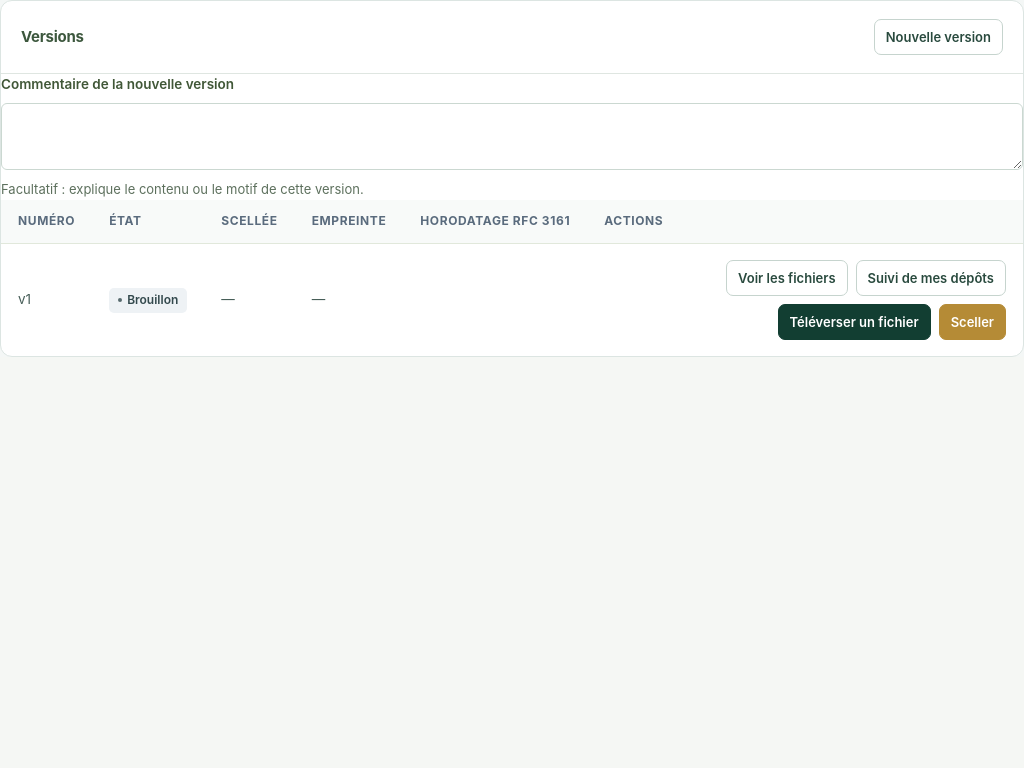
Scenario: un scellement refusé pour dépôts interrompus l’explique et ouvre le suivi des dépôts de cette version
Click the button "Sceller": (972, 322) [939, 304, 1006, 340]
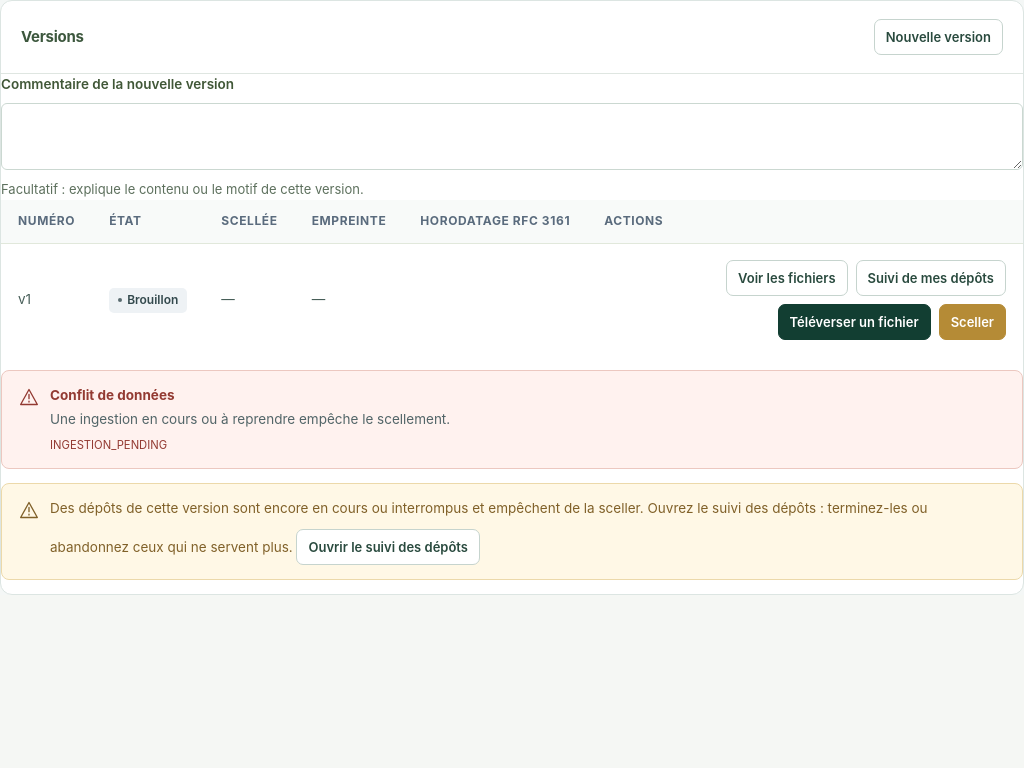
Result: the text "Une ingestion en cours ou à reprendre empêche le scellement." is shown at [50, 407, 450, 431]
Result: the text "Ouvrez le suivi des dépôts : terminez-les ou abandonnez ceux qui ne servent plus" is shown at [50, 500, 928, 555]
Click the button "Ouvrir le suivi des dépôts": (388, 548) [296, 530, 480, 566]
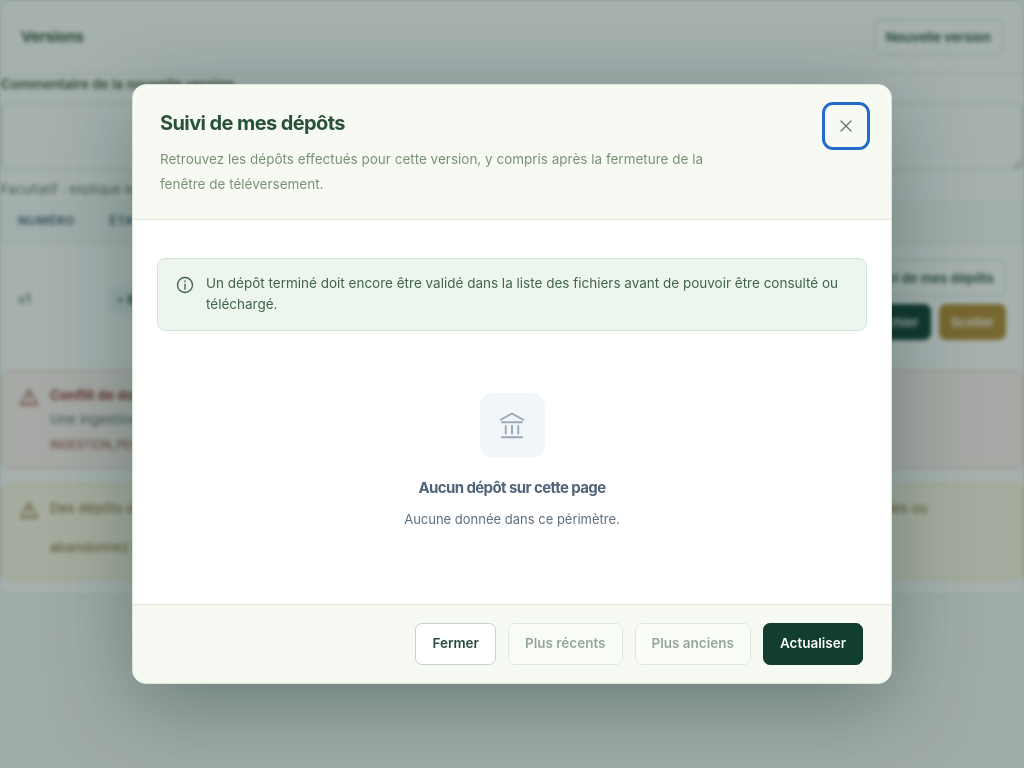
Result: the heading "Suivi de mes dépôts" is shown at [160, 111, 345, 135]
